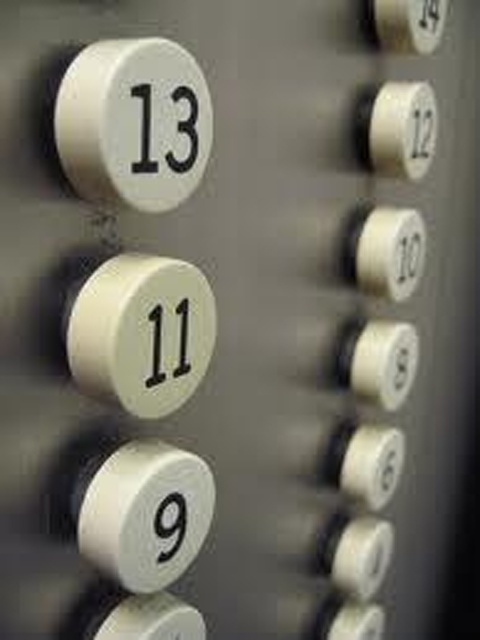10: (356, 205, 430, 305)
11: (64, 253, 219, 422)
12: (368, 79, 439, 182)
13: (53, 37, 215, 215)
6: (340, 424, 405, 510)
8: (351, 318, 420, 411)
9: (76, 438, 213, 596)
blur: (329, 517, 395, 598)
